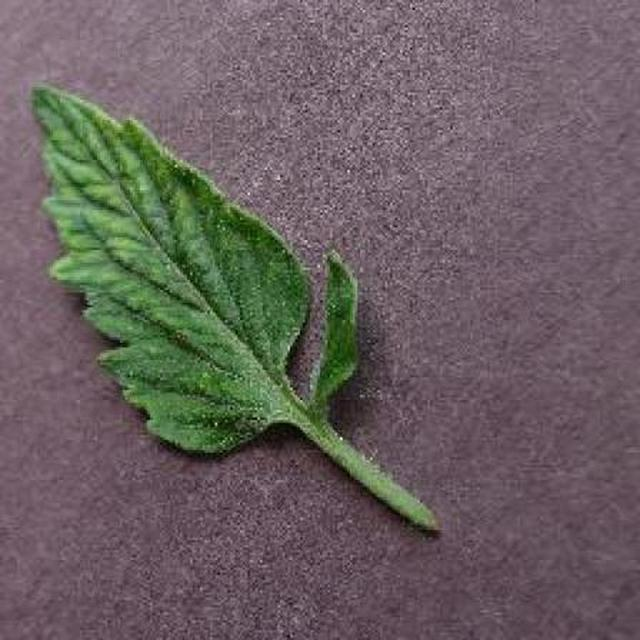Mosaic Virus Leaf: (36, 111, 519, 640)
